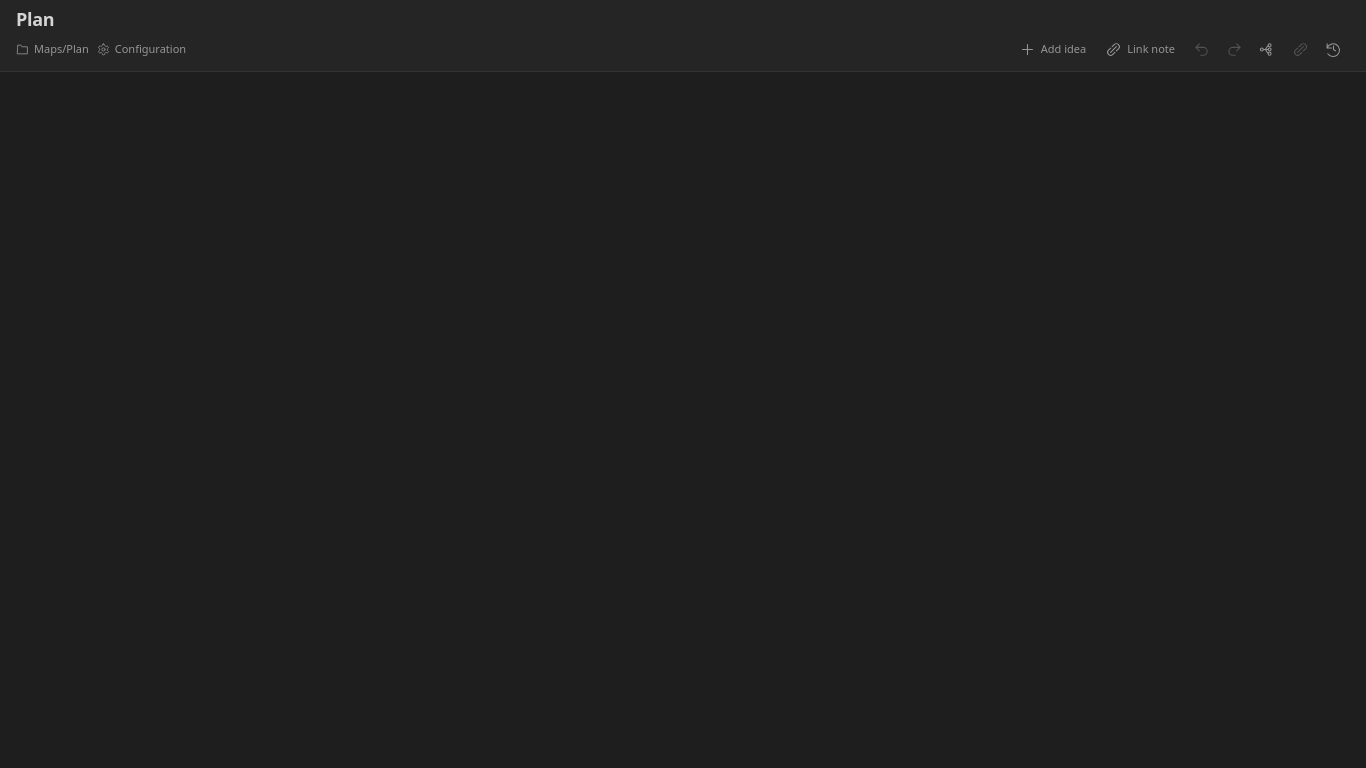
shows real note-kind documents in the reference picker
The width and height of the screenshot is (1366, 768).
Click the button "Link note". click: {"x": 1140, "y": 50}
box: [1097, 34, 1183, 64]
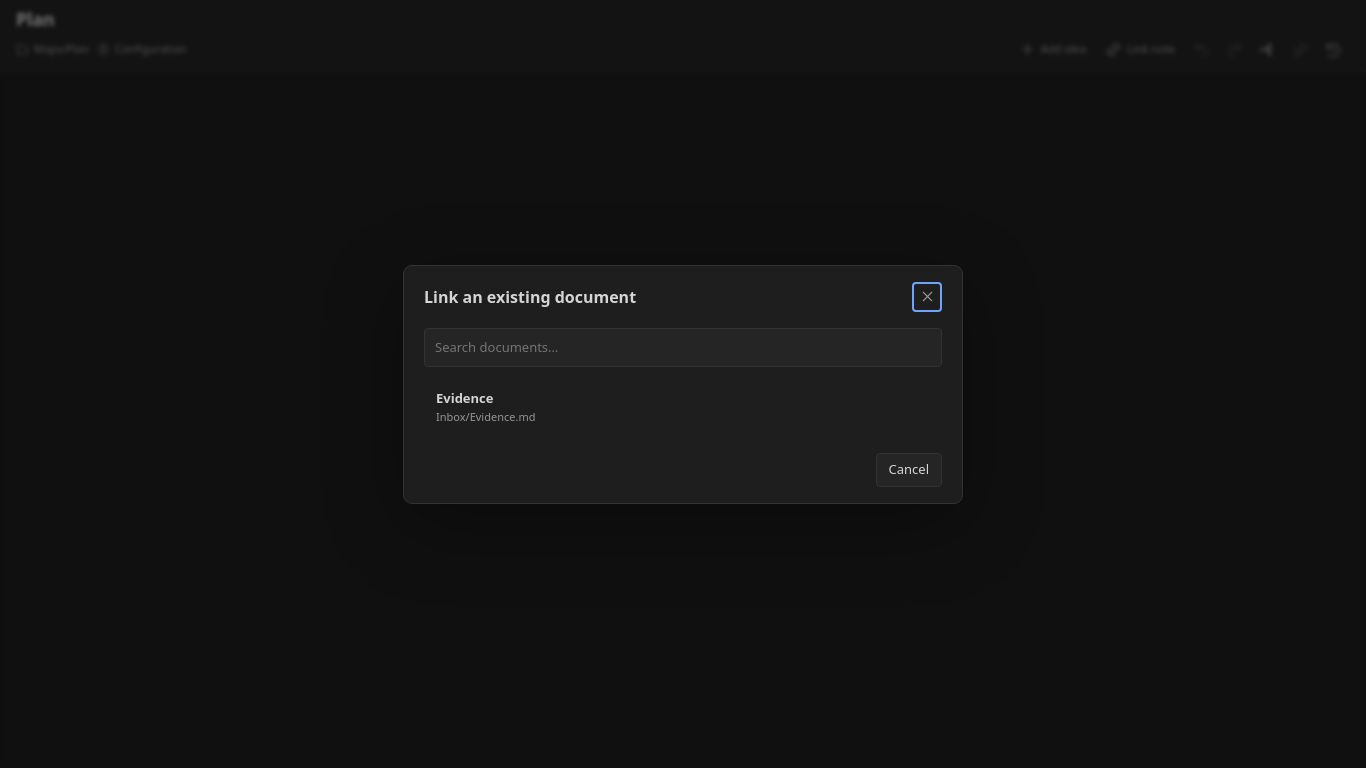
expect the dialog shows "Evidence": met, box [424, 379, 942, 435]
